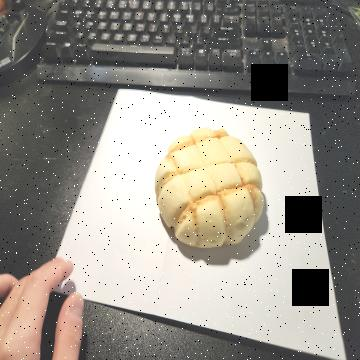melon_bread: (154, 125, 266, 250)
